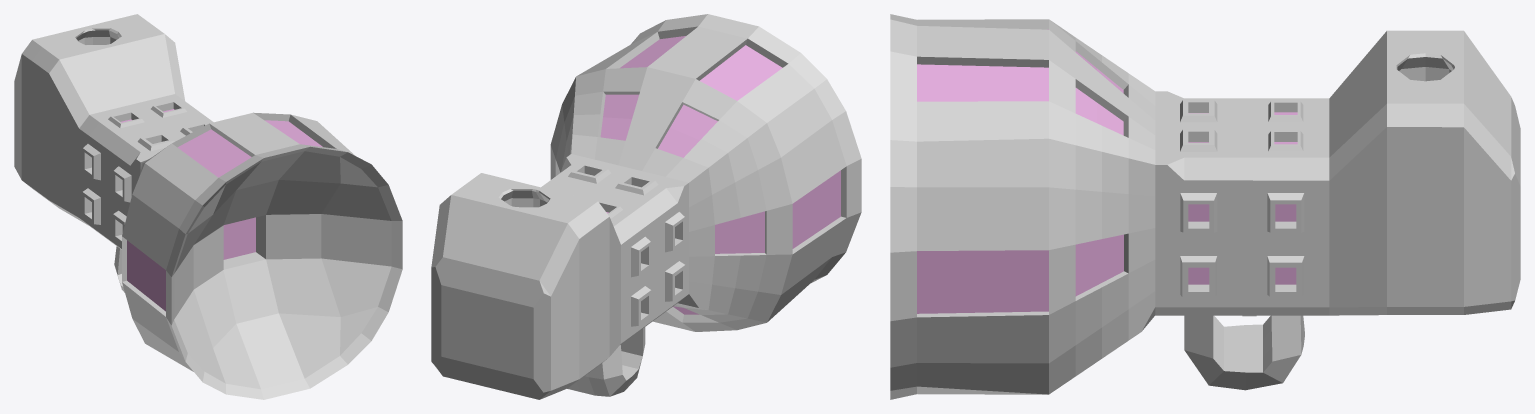
Rendered from GrenadeTestingWeapon.fbx.
The picture shows the model from 3 angles, left to right: view 1: azimuth 30°, elevation 25°; view 2: azimuth 150°, elevation 25°; view 3: azimuth 270°, elevation 25°; orthographic projection. The views are drawn at different scales.
Parts seen in each view (by area): view 1: Grenade_Weapon; view 2: Grenade_Weapon; view 3: Grenade_Weapon.
Boxes of the visible parts, x1,y1,x2,y2 form: Grenade_Weapon: (14,14,402,399); Grenade_Weapon: (431,14,861,399); Grenade_Weapon: (890,14,1520,399).
Size of the model in its own units: 217 by 217 by 362.
